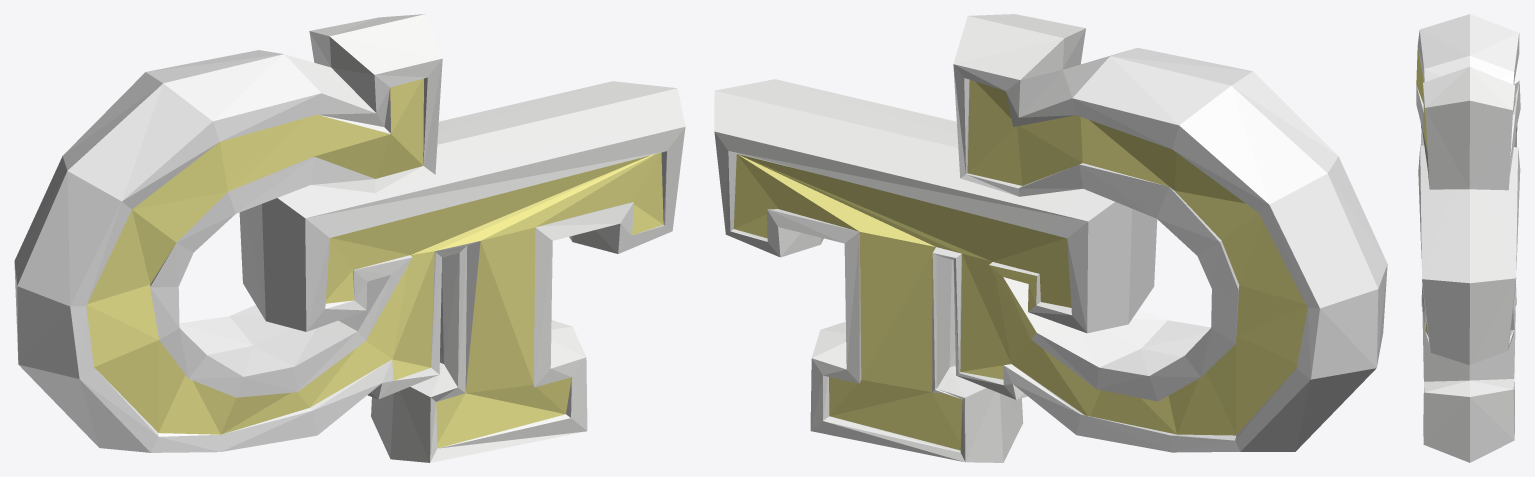
File: georgiaTech.glb
3 renders of one model, left to right at view 1: azimuth 30°, elevation 25°; view 2: azimuth 150°, elevation 25°; view 3: azimuth 270°, elevation 25°, orthographic. The views are drawn at different scales.
Visible parts, largest first — view 1: georgiaTech; view 2: georgiaTech; view 3: georgiaTech.
Part boxes in pixels (x1,y1,x2,y2): georgiaTech: (14,14,685,462); georgiaTech: (714,14,1387,462); georgiaTech: (1416,14,1520,462).
Bounding box in the file's own units: 29.4 × 18.85 × 5.7.
1 material, 1 textured.
